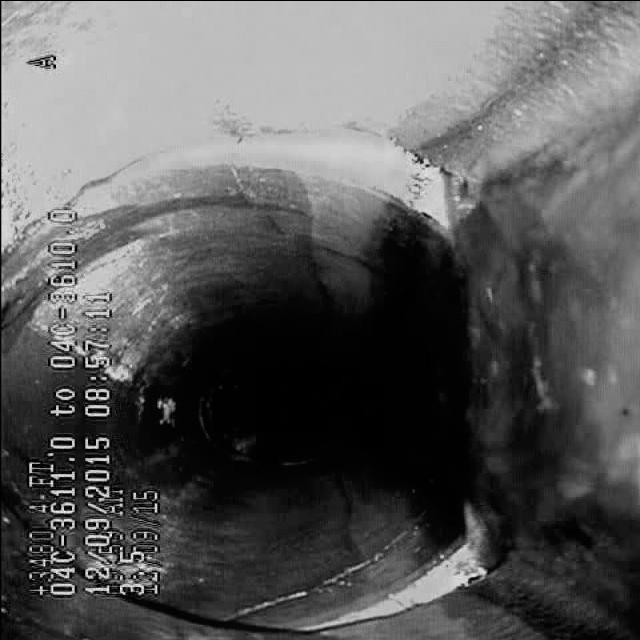Crack: (206, 541, 426, 623)
